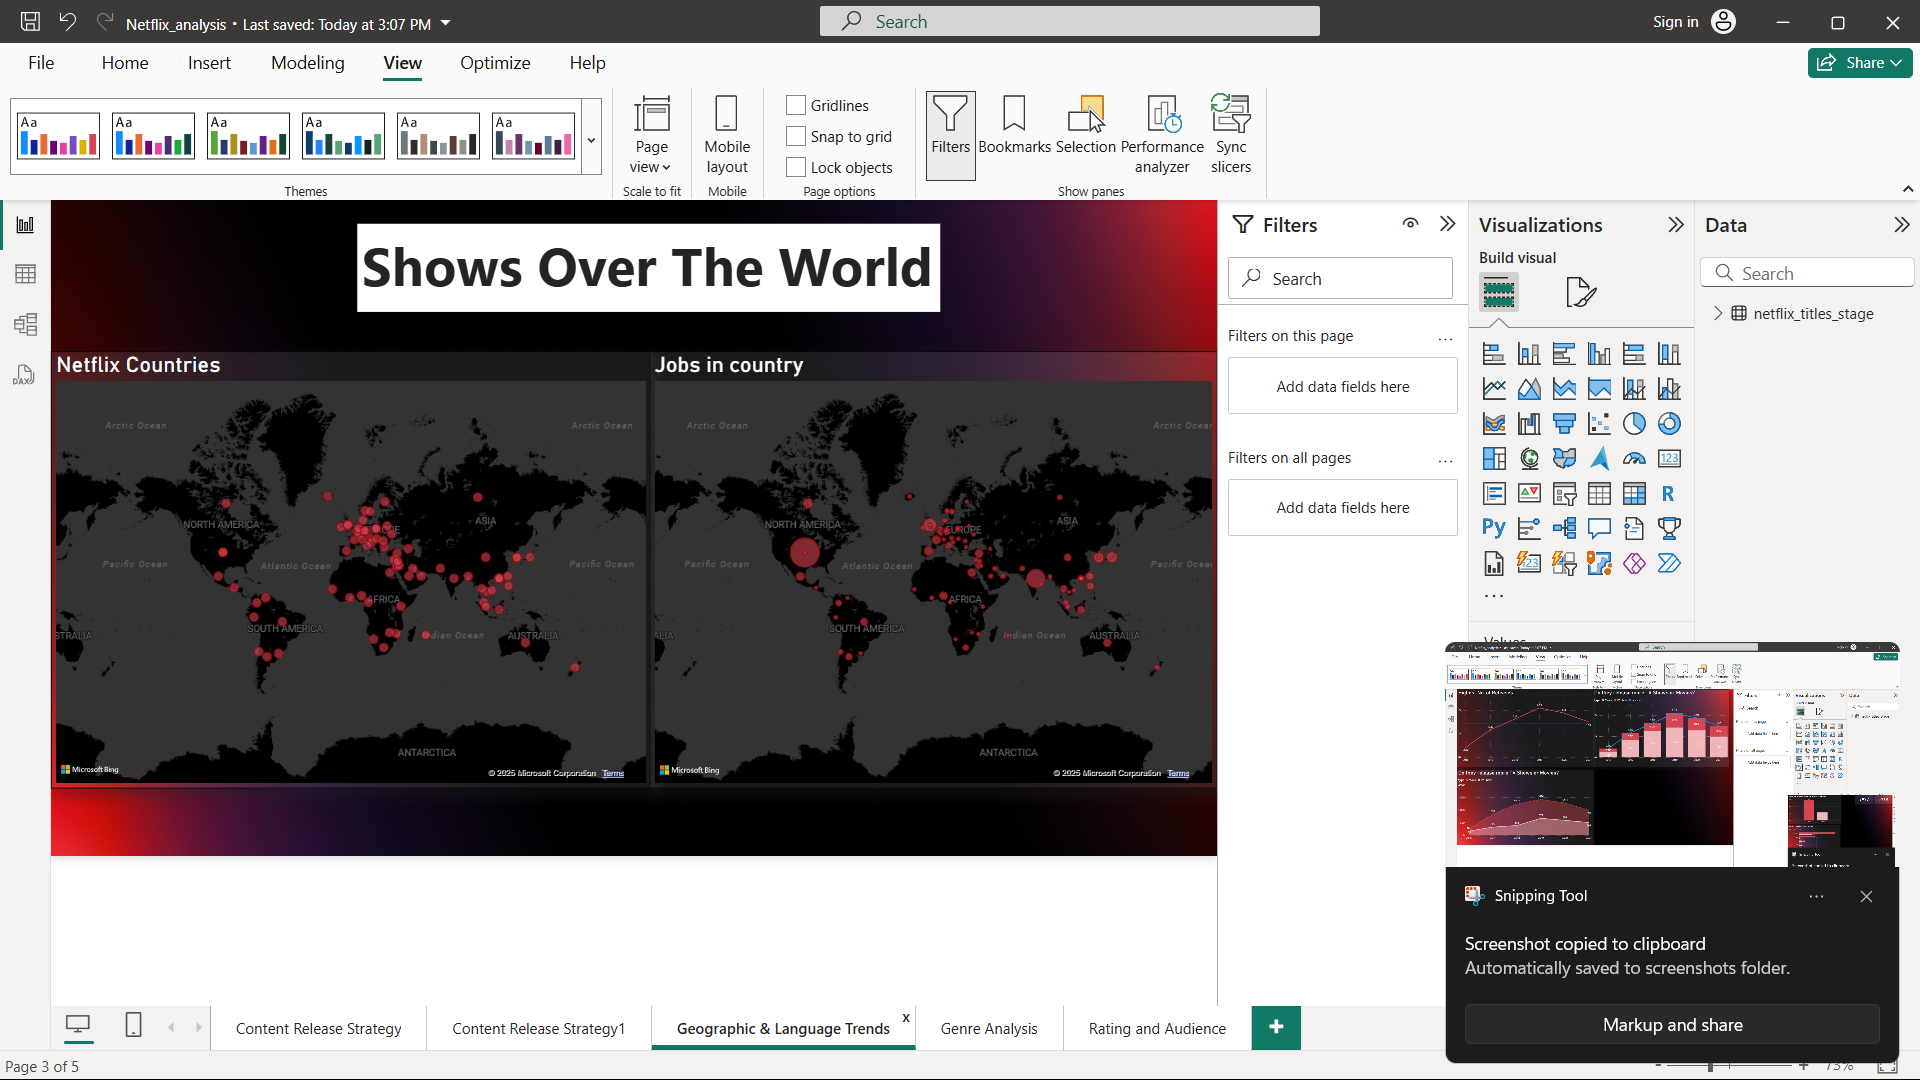

The dashboard page shown, as its layout file describes it:
{"tool":"powerbi","page":{"name":"Geographic & Language Trends","canvas":[1280,720],"ordinal":2},"visuals":[{"type":"map","title":"Netflix Countries","fields":{"Category":["netflix_titles_stage.country"]},"box":[0,166.7,660,480],"z":0},{"type":"map","title":"Jobs in country","fields":{"Category":["netflix_titles_stage.country"],"Size":["CountNonNull(netflix_titles_stage.type)"]},"box":[657.3,166,623,480.3],"z":1000},{"type":"textbox","box":[336.7,26.7,640,96.7],"z":2000}]}

Visuals, with their boxes on the page's 1280x720 design canvas (x1, y1, x2, y2). These are canvas units, not pixel positions in the 1920x1080 screenshot, which may show the page scaled, cropped or inside an application window:
"Netflix Countries" map: bbox=(0, 167, 660, 647)
"Jobs in country" map: bbox=(657, 166, 1280, 646)
textbox: bbox=(337, 27, 977, 123)
